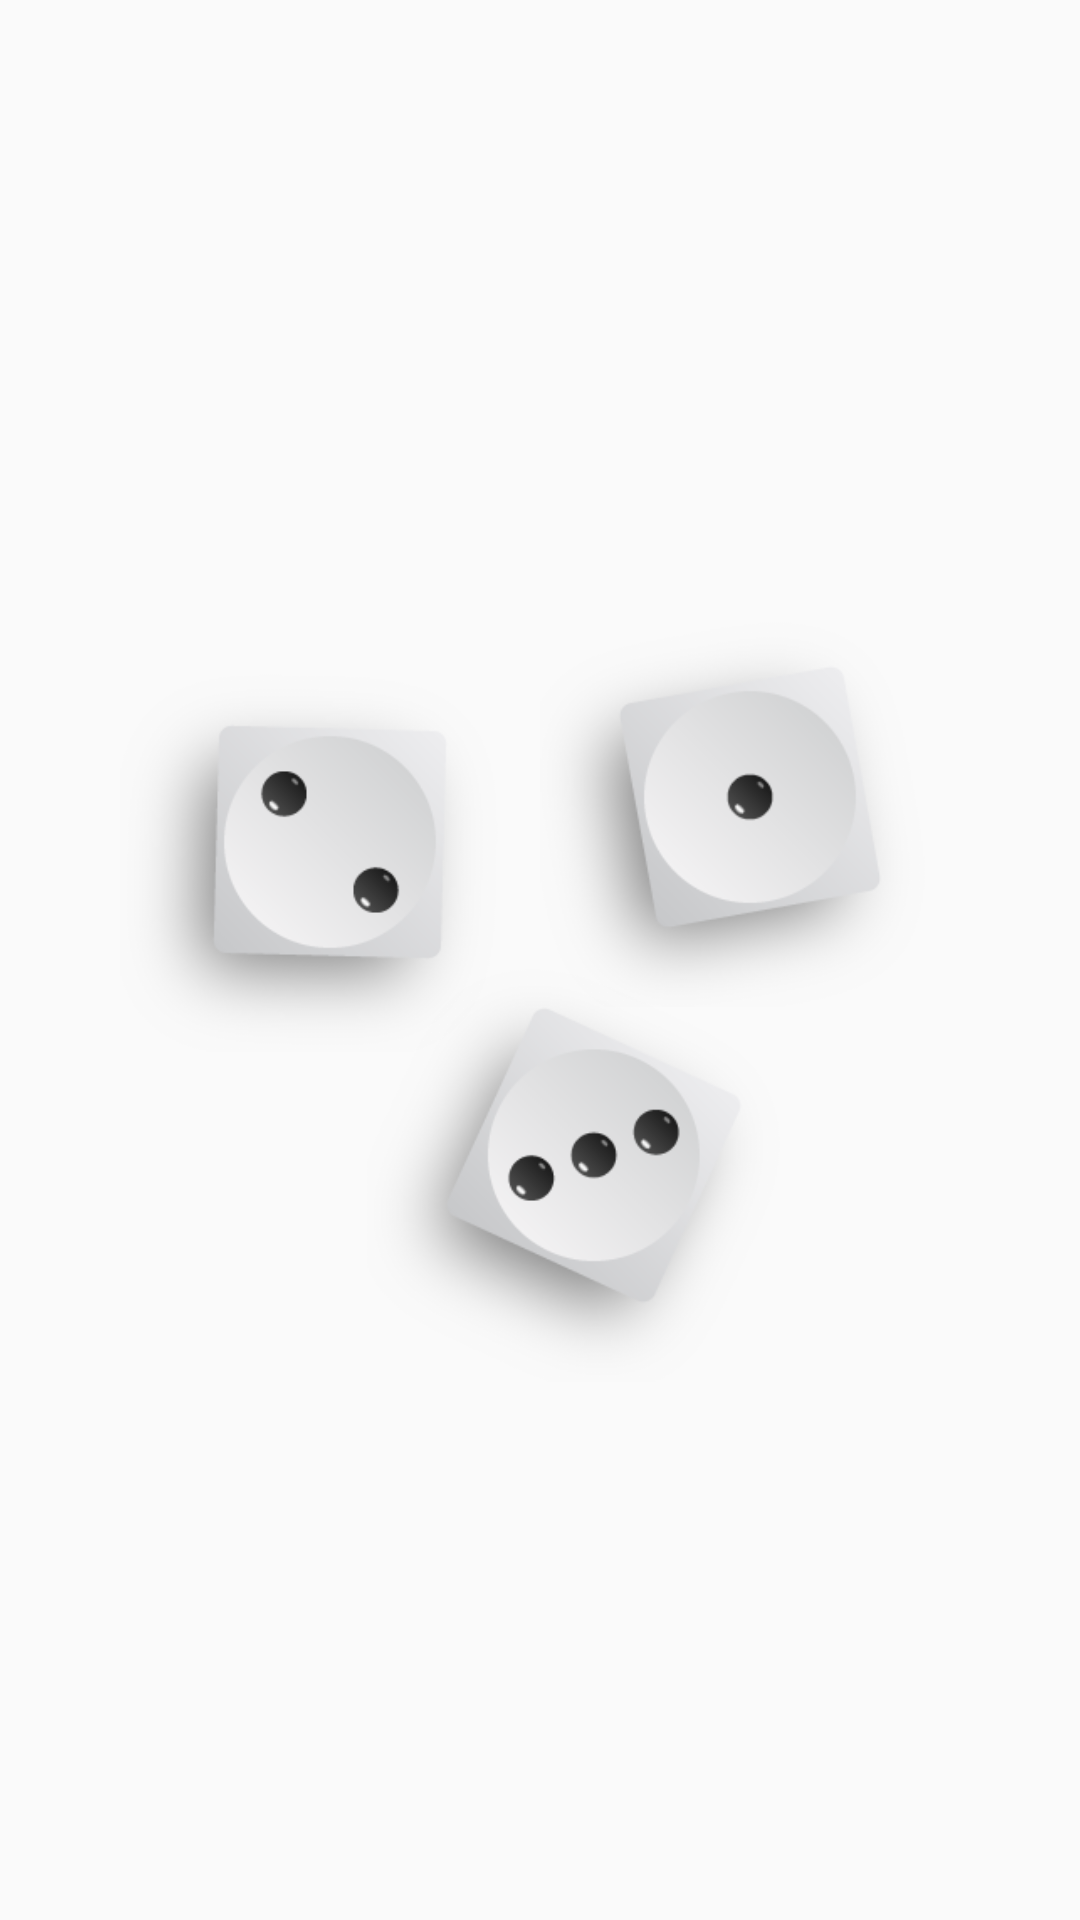

Icon bounding boxes for this 1080w x 1920h phone screenshot, format (x1, y1, x2, y2):
dice: (588, 687, 879, 959), (173, 726, 442, 999), (423, 1018, 711, 1326)
